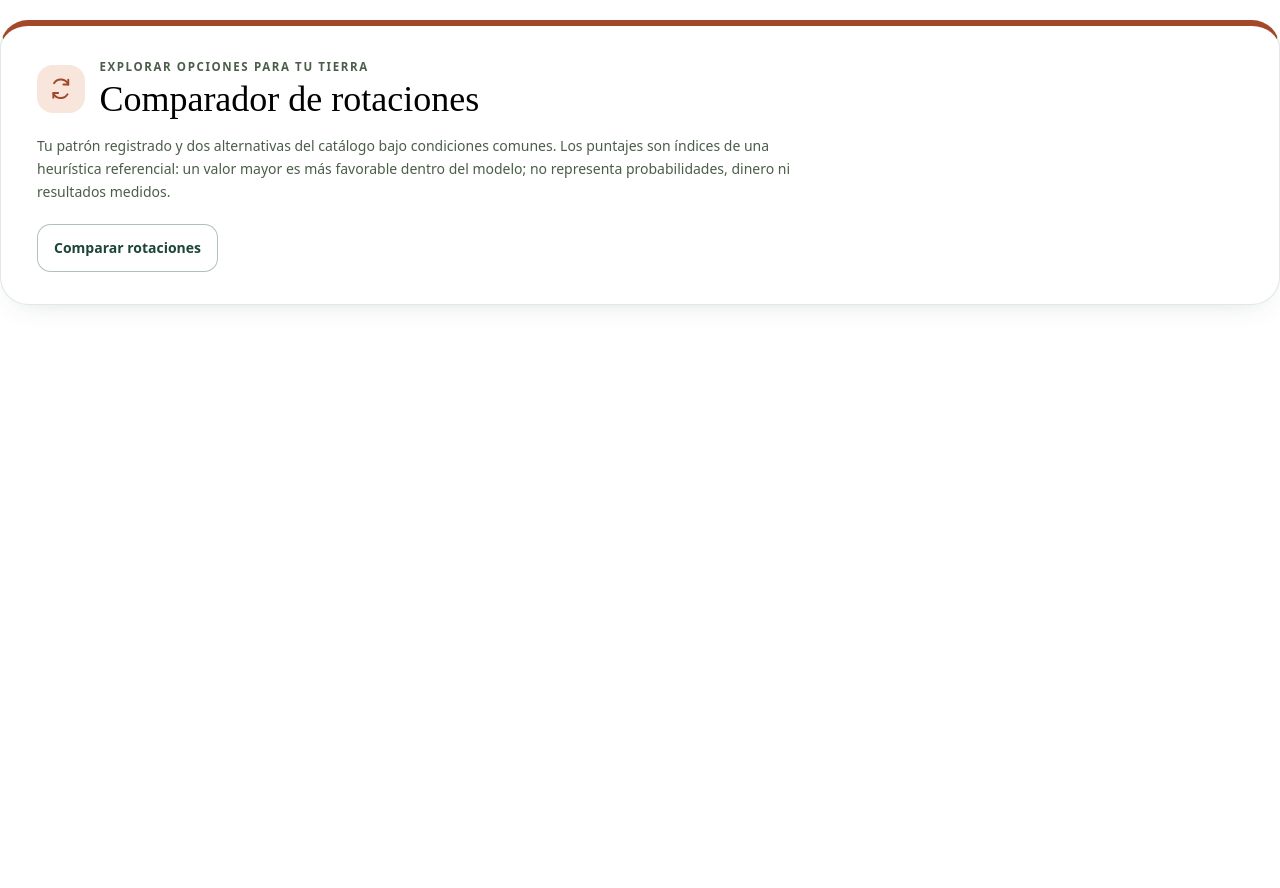
Test: Comparador: tres tarjetas, límites, errores y sesiones › explica la longitud de las barras sin equiparar los puntajes con cosechas o dinero
This screenshot has width=1280, height=888.
Click the button "Comparar rotaciones" at (128, 248), box [37,224,218,272]
(page scrolled)
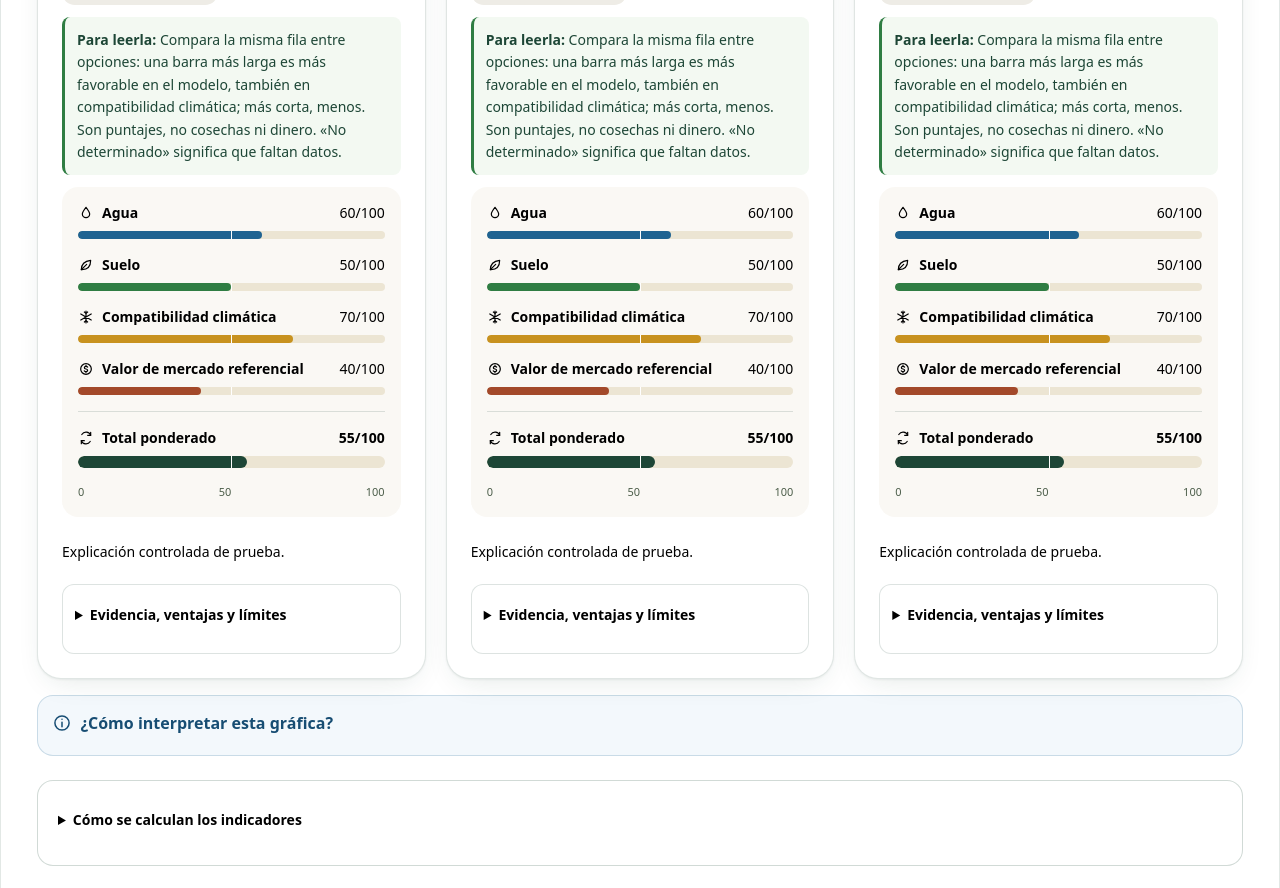
Check: the 1st heading "Evidencia, ventajas y límites" is shown, box [90,605,286,624]
Check: the 1st text "55/100" is shown, box [339,428,385,448]
